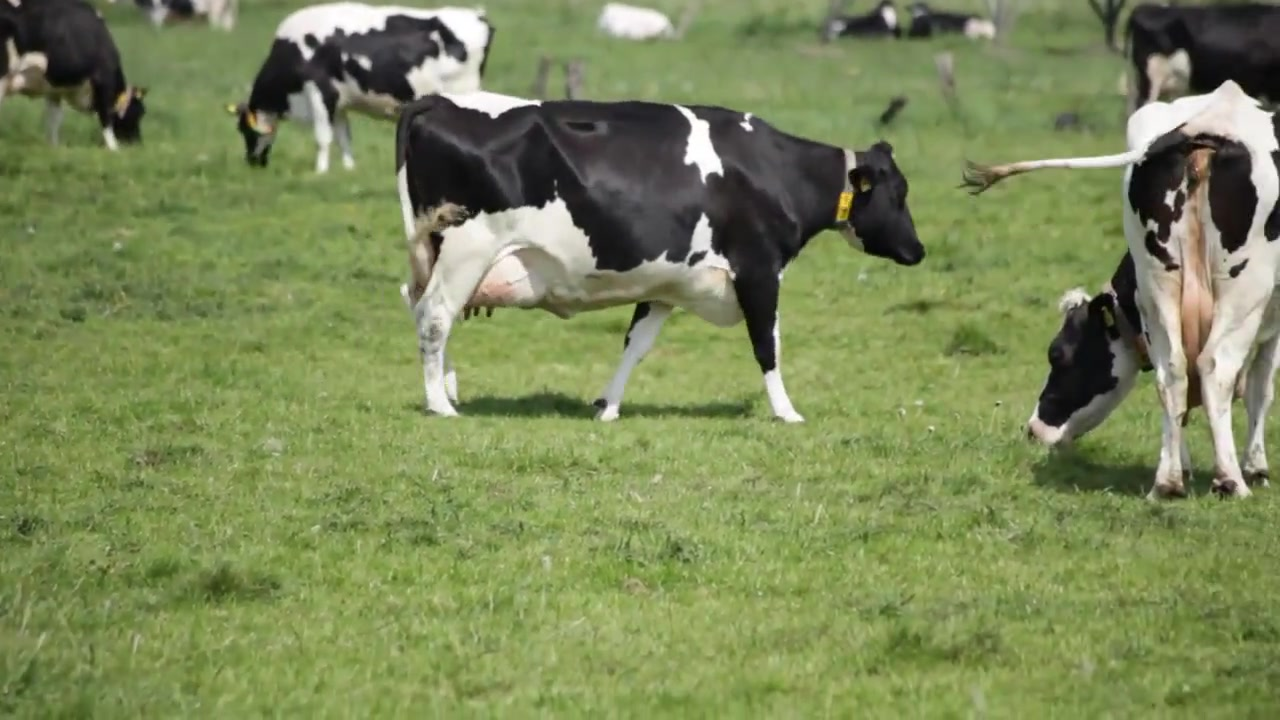cow: (392, 91, 927, 426)
